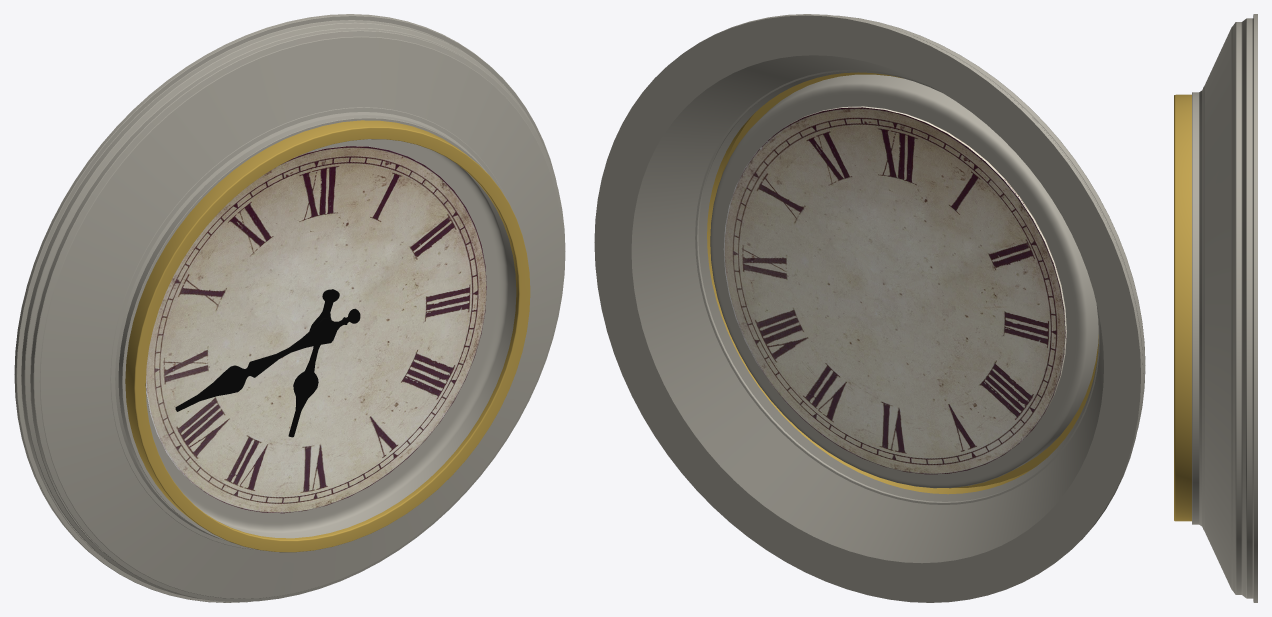
Rendered from Clock 8.fbx.
3 views of the same model, side by side, from view 1: azimuth 30°, elevation 25°; view 2: azimuth 150°, elevation 25°; view 3: azimuth 270°, elevation 25° (orthographic). The views are drawn at different scales.
Visible parts, largest first — view 1: clock 8, minutes, hours; view 2: clock 8; view 3: clock 8.
Boxes of the visible parts, x1,y1,x2,y2 form: clock 8: (14,14,565,602); minutes: (175,308,360,411); hours: (288,289,339,437); clock 8: (594,14,1145,602); clock 8: (1174,14,1257,602).
Size of the model in its own units: 38.53 by 38.53 by 5.49.
